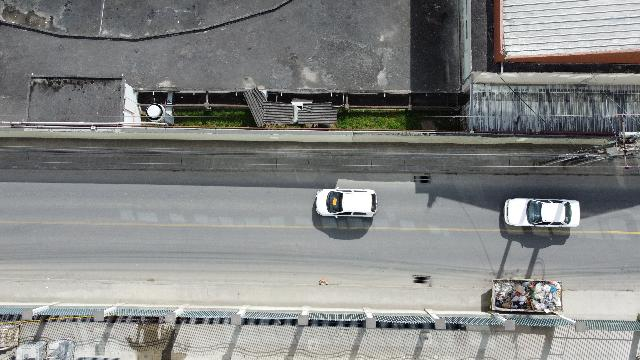Vehiculo: (504, 198, 580, 228), (315, 188, 377, 218)
